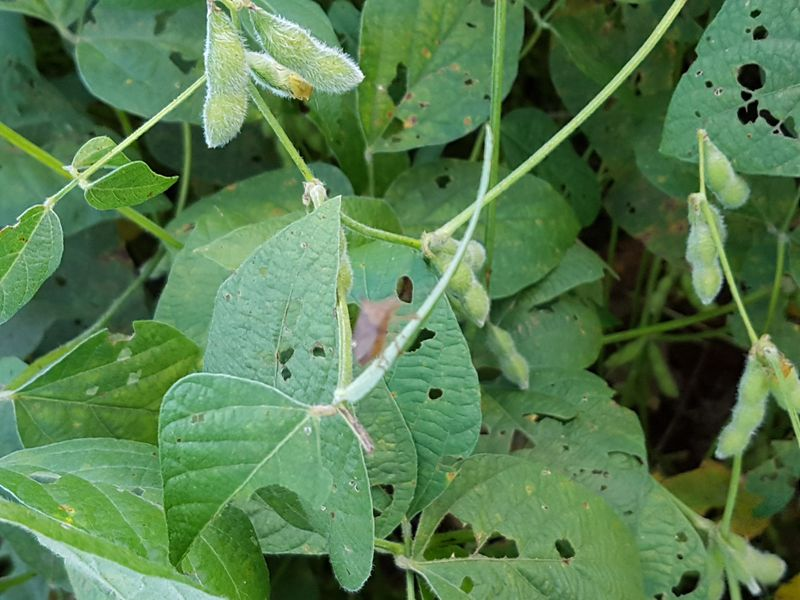Euschistus_heros_adulto: (336, 283, 430, 379)
Euschistus_heros_ninfa: (277, 66, 319, 105)
